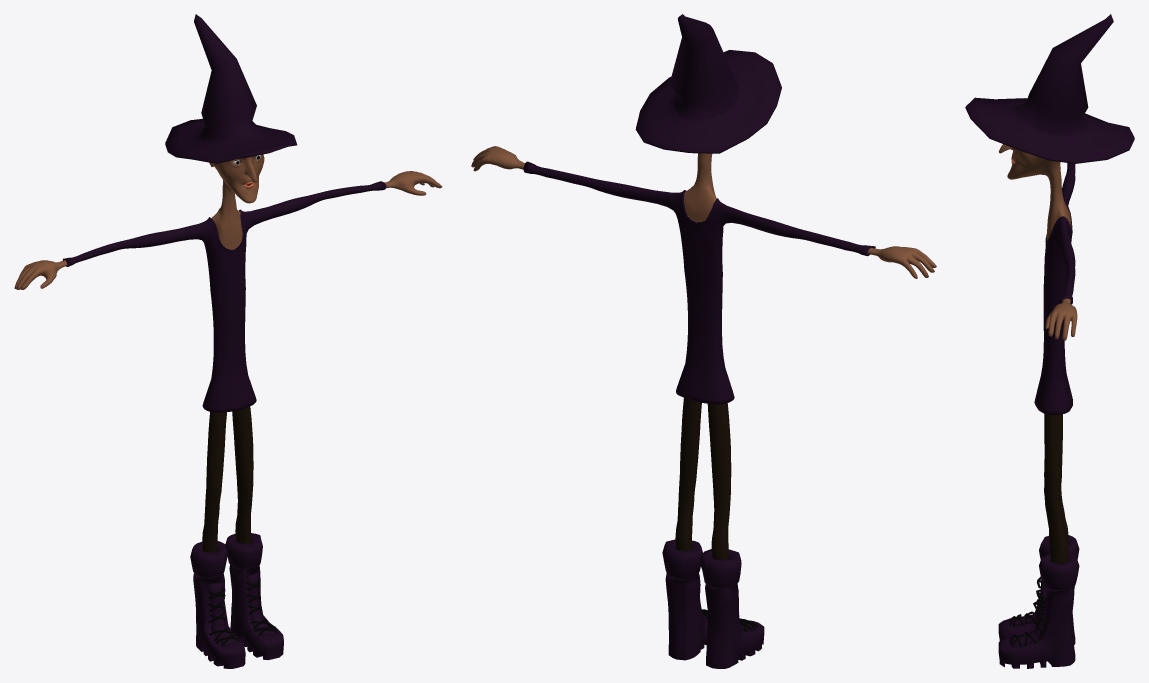
File: witch_cartooni.obj
3 renders of one model, left to right at view 1: azimuth 30°, elevation 25°; view 2: azimuth 150°, elevation 25°; view 3: azimuth 270°, elevation 25°, orthographic. The views are drawn at different scales.
Parts seen in each view (by area): view 1: Whitch.001_Dress+Hat+Shoes+Platform, Whitch.001_Pants, Whitch.001_Skin, Whitch.001_Pupil; view 2: Whitch.001_Dress+Hat+Shoes+Platform, Whitch.001_Pants, Whitch.001_Skin; view 3: Whitch.001_Dress+Hat+Shoes+Platform, Whitch.001_Skin, Whitch.001_Pants, Whitch.001_Pupil.
Part boxes in pixels (x1=…): Whitch.001_Dress+Hat+Shoes+Platform: x1=62, y1=14, x2=386, y2=668; Whitch.001_Pants: x1=202, y1=406, x2=253, y2=552; Whitch.001_Skin: x1=14, y1=154, x2=442, y2=289; Whitch.001_Pupil: x1=207, y1=156, x2=278, y2=646; Whitch.001_Dress+Hat+Shoes+Platform: x1=523, y1=14, x2=875, y2=668; Whitch.001_Pants: x1=675, y1=398, x2=731, y2=559; Whitch.001_Skin: x1=471, y1=146, x2=936, y2=278; Whitch.001_Dress+Hat+Shoes+Platform: x1=965, y1=14, x2=1134, y2=668; Whitch.001_Skin: x1=999, y1=144, x2=1077, y2=340; Whitch.001_Pants: x1=1044, y1=413, x2=1068, y2=563; Whitch.001_Pupil: x1=1011, y1=576, x2=1047, y2=647.
Bounding box in the file's own units: 1.04 × 1.43 × 0.3459.
